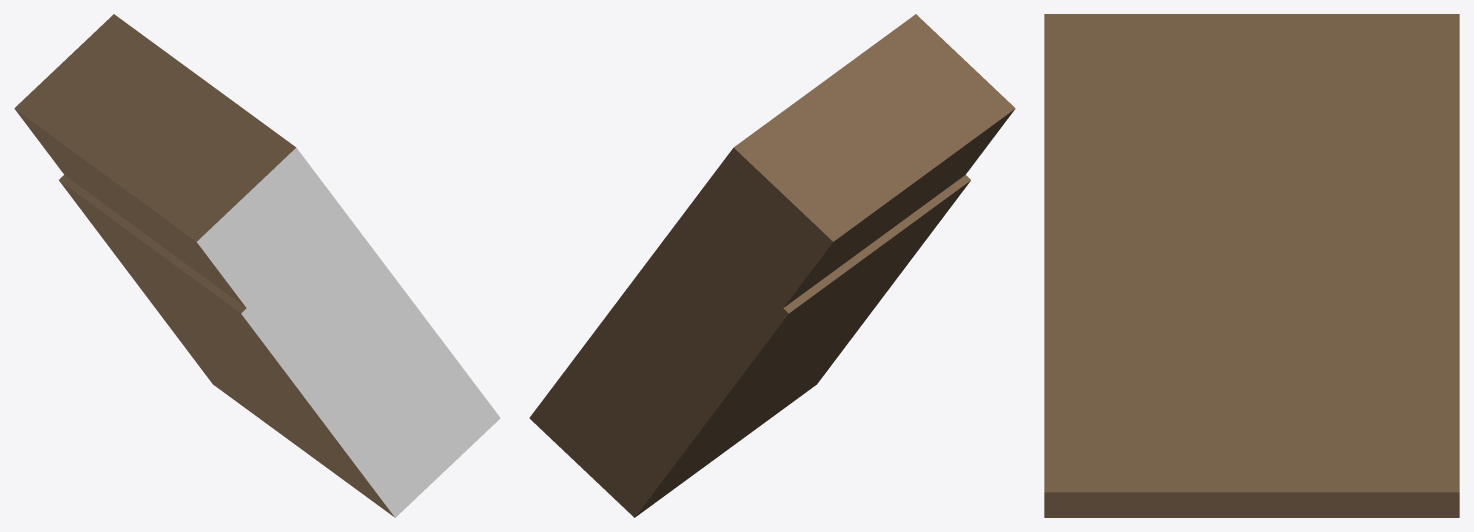
3 renders of one model, left to right at view 1: azimuth 30°, elevation 25°; view 2: azimuth 150°, elevation 25°; view 3: azimuth 270°, elevation 25°, orthographic. The views are drawn at different scales.
Parts seen in each view (by area): view 1: City_1884675; view 2: City_1884675; view 3: City_1884675.
Boxes of the visible parts, <box> form: City_1884675: <box>14,14,500,517</box>; City_1884675: <box>529,14,1015,517</box>; City_1884675: <box>1044,14,1459,517</box>.
Bounding box in the file's own units: 1308 × 1622 × 1359.
